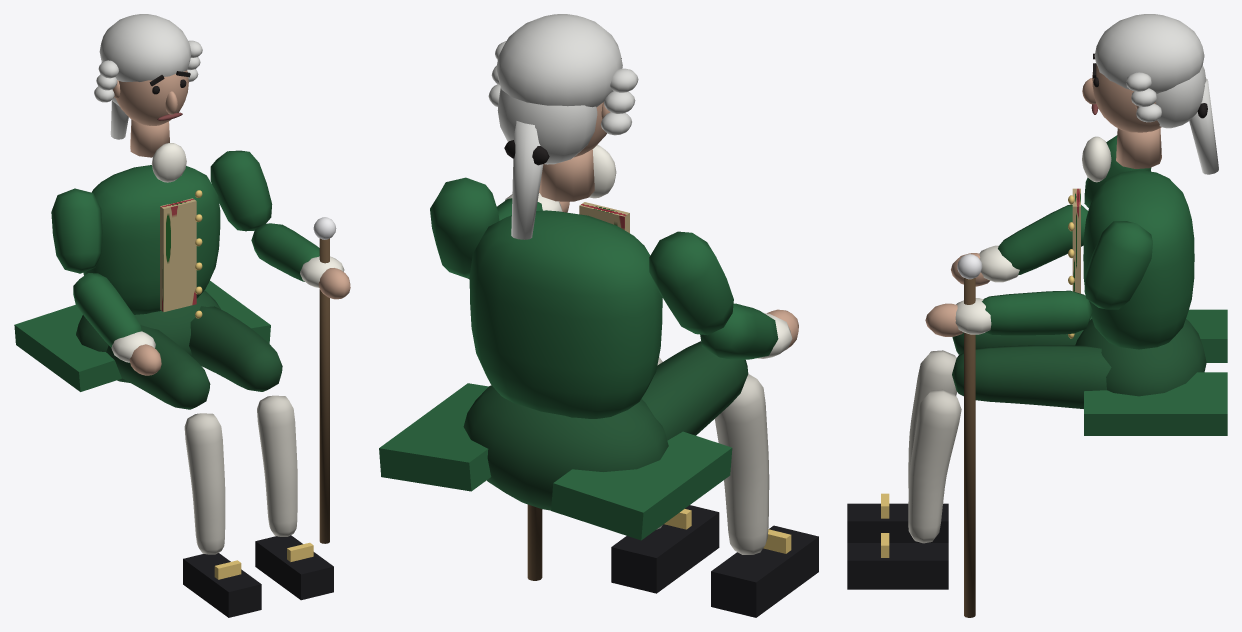
Rendered from montague.glb.
3 views of the same model, side by side, from view 1: azimuth 30°, elevation 25°; view 2: azimuth 150°, elevation 25°; view 3: azimuth 270°, elevation 25° (orthographic). The views are drawn at different scales.
Parts seen in each view (by area): view 1: torso, thigh.001, coat_skirt_l, wig, shin, shin.001, waistcoat, thigh, upper_arm.001, upper_arm, shoe, shoe.001 (+13 smaller); view 2: torso, hips, coat_skirt_l, wig, coat_skirt_r, shin, thigh, upper_arm, shoe, shoe.001, upper_arm.001, wig_back (+6 smaller); view 3: torso, thigh.001, coat_skirt_r, wig, shin.001, hips, shoe.001, upper_arm.001, forearm.001, cane, forearm, shoe (+13 smaller).
Part boxes in pixels (x1=…): torso: x1=83, y1=165, x2=220, y2=314; thigh.001: x1=189, y1=306, x2=282, y2=391; coat_skirt_l: x1=14, y1=304, x2=121, y2=391; wig: x1=99, y1=14, x2=191, y2=81; shin: x1=184, y1=413, x2=225, y2=554; shin.001: x1=257, y1=395, x2=297, y2=536; waistcoat: x1=160, y1=198, x2=196, y2=311; thigh: x1=106, y1=325, x2=210, y2=409; upper_arm.001: x1=210, y1=150, x2=272, y2=231; upper_arm: x1=51, y1=188, x2=102, y2=273; shoe: x1=183, y1=553, x2=261, y2=617; shoe.001: x1=255, y1=535, x2=333, y2=600; torso: x1=469, y1=210, x2=662, y2=418; hips: x1=463, y1=385, x2=668, y2=510; coat_skirt_l: x1=551, y1=431, x2=732, y2=540; wig: x1=496, y1=14, x2=622, y2=107; coat_skirt_r: x1=379, y1=383, x2=491, y2=491; shin: x1=715, y1=374, x2=769, y2=554; thigh: x1=641, y1=341, x2=748, y2=440; upper_arm: x1=649, y1=231, x2=733, y2=335; shoe: x1=711, y1=525, x2=818, y2=617; shoe.001: x1=611, y1=505, x2=719, y2=593; upper_arm.001: x1=430, y1=177, x2=499, y2=277; wig_back: x1=497, y1=87, x2=597, y2=164; torso: x1=1083, y1=169, x2=1194, y2=349; thigh.001: x1=952, y1=345, x2=1111, y2=408; coat_skirt_r: x1=1084, y1=372, x2=1227, y2=435; wig: x1=1094, y1=14, x2=1204, y2=93; shin.001: x1=908, y1=389, x2=961, y2=543; hips: x1=1075, y1=319, x2=1206, y2=396; shoe.001: x1=847, y1=543, x2=948, y2=589; upper_arm.001: x1=1084, y1=221, x2=1152, y2=309; forearm.001: x1=982, y1=290, x2=1092, y2=335; cane: x1=964, y1=278, x2=975, y2=617; forearm: x1=998, y1=204, x2=1088, y2=274; shoe: x1=847, y1=503, x2=948, y2=542.
Bounding box in the file's own units: 0.6724 × 1.42 × 0.9.
Materials: 13 (1 with a texture image).
